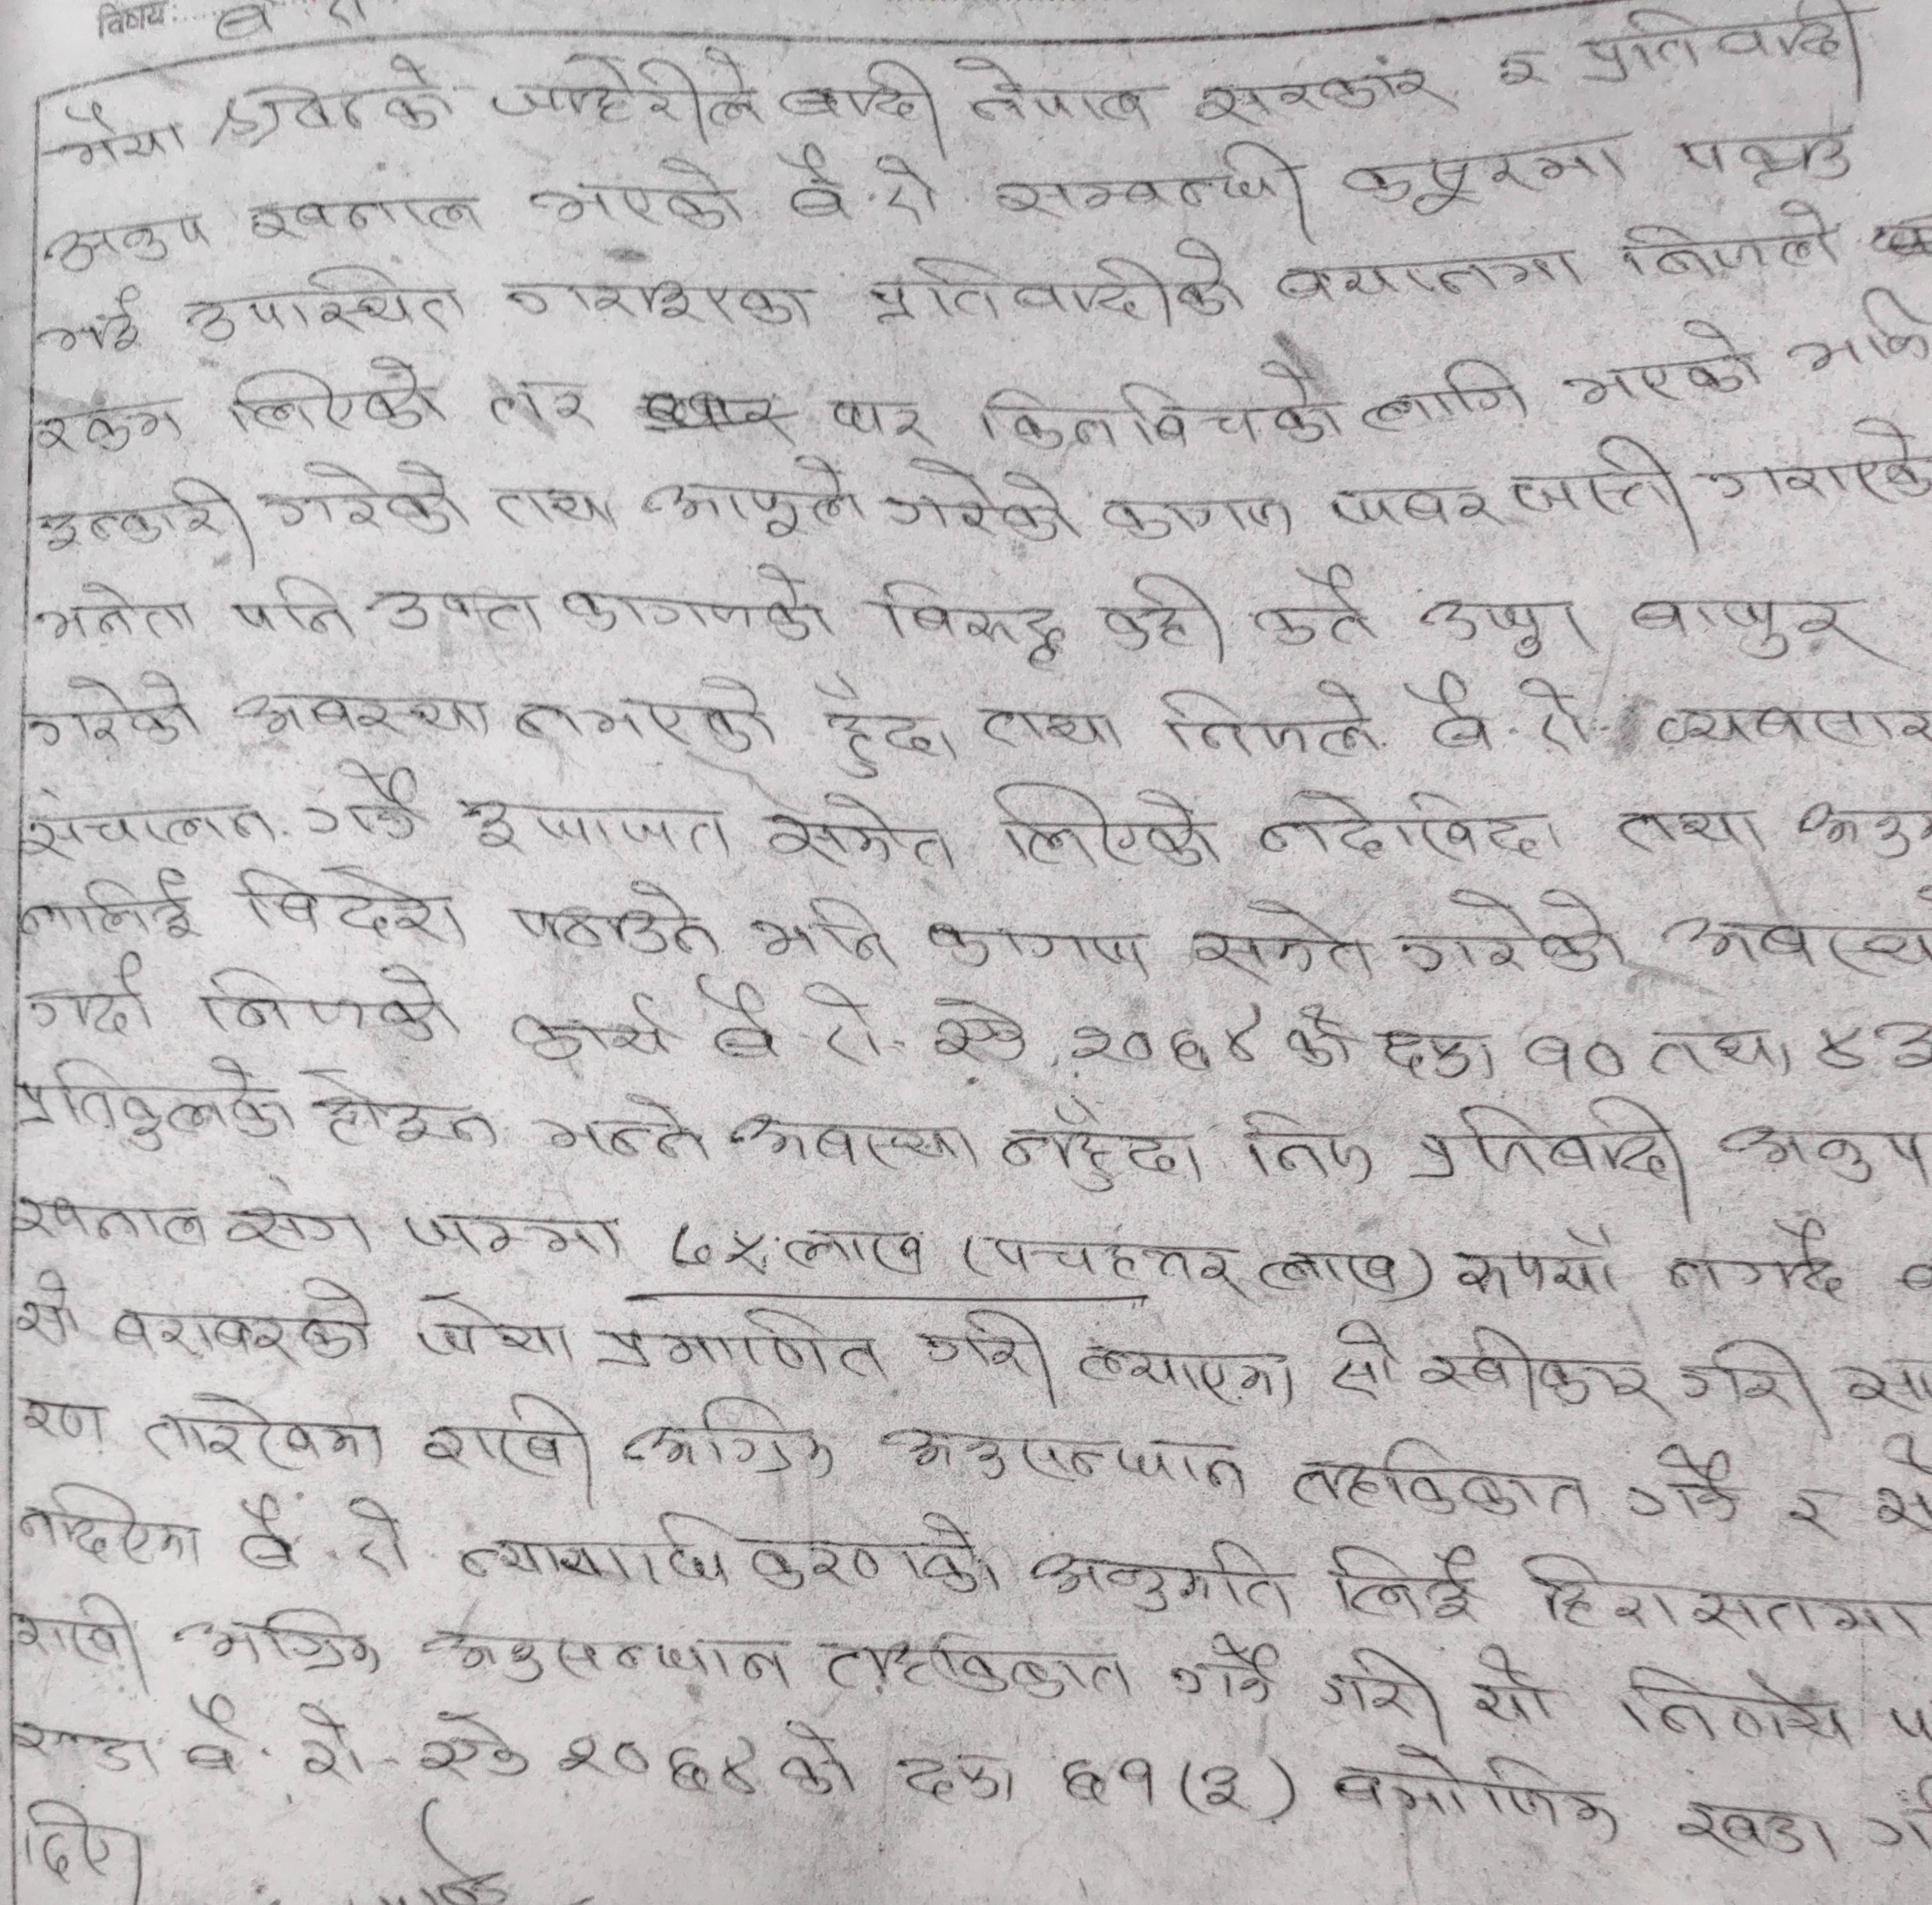text: (457, 1506, 1013, 1596), (1524, 1549, 1932, 1652), (868, 234, 1247, 331), (980, 354, 1344, 454), (1329, 1739, 1625, 1847), (1289, 1432, 1602, 1525), (881, 1420, 1250, 1493), (994, 134, 1308, 220), (493, 44, 765, 141), (558, 558, 846, 649), (19, 1054, 295, 1148), (1578, 2, 1867, 91), (1337, 133, 1636, 218), (110, 1273, 375, 1369), (1409, 1094, 1683, 1186), (820, 1629, 1140, 1706), (1395, 881, 1634, 984), (183, 260, 476, 344), (1031, 1535, 1301, 1626), (1254, 783, 1566, 860), (602, 1305, 888, 1389), (1609, 1657, 1857, 1751), (417, 1626, 797, 1687), (985, 771, 1219, 869), (638, 447, 874, 543), (201, 963, 469, 1047), (506, 672, 779, 754), (214, 51, 452, 145), (139, 1387, 398, 1472), (1418, 1322, 1662, 1410), (1709, 415, 1932, 509), (996, 1092, 1201, 1191), (1615, 195, 1854, 281), (1156, 673, 1384, 761), (237, 864, 474, 947), (877, 452, 1081, 548), (1564, 316, 1768, 412), (867, 574, 1069, 670), (1193, 52, 1456, 126), (180, 1687, 368, 1788), (621, 1390, 839, 1478), (499, 272, 816, 331), (258, 454, 473, 541), (296, 1064, 506, 1151), (17, 1478, 211, 1572), (692, 973, 889, 1066), (459, 794, 732, 860), (729, 1104, 980, 1176), (1189, 893, 1372, 991), (38, 473, 256, 555), (949, 52, 1167, 134), (528, 155, 745, 237), (225, 361, 455, 438), (230, 1488, 417, 1582), (1507, 431, 1684, 529), (21, 794, 282, 860), (417, 1392, 600, 1486), (232, 680, 492, 747), (1627, 593, 1867, 665), (513, 876, 717, 959), (764, 789, 961, 874), (1269, 251, 1587, 304), (813, 670, 957, 783), (1670, 1214, 1850, 1305), (983, 1232, 1236, 1294), (174, 1603, 385, 1678), (1650, 698, 1932, 754), (548, 1729, 767, 1800), (1076, 1340, 1296, 1411), (1060, 1005, 1269, 1080), (1360, 352, 1527, 443), (924, 925, 1158, 989), (30, 672, 206, 757), (1718, 1116, 1932, 1186), (914, 1305, 1058, 1408), (1419, 672, 1597, 754), (1444, 1223, 1623, 1301), (528, 1092, 710, 1169), (17, 869, 202, 944), (248, 188, 488, 246), (1325, 1537, 1484, 1624), (399, 1205, 635, 1263), (776, 54, 940, 134), (1674, 1793, 1838, 1874), (406, 1286, 572, 1364), (778, 145, 942, 223), (37, 577, 204, 652), (7, 1186, 206, 1249), (12, 1587, 146, 1678), (1250, 562, 1383, 652), (1240, 1103, 1376, 1190), (506, 994, 671, 1066), (23, 949, 155, 1038), (1097, 488, 1301, 546), (1623, 1443, 1752, 1533), (1419, 590, 1590, 658), (356, 583, 544, 642), (1679, 1331, 1812, 1415), (1320, 1643, 1442, 1734), (748, 891, 889, 968), (1095, 570, 1226, 652), (303, 755, 420, 846), (1683, 129, 1866, 187), (45, 213, 213, 276), (1662, 905, 1815, 972), (1160, 1629, 1285, 1710), (228, 570, 361, 644), (17, 1793, 117, 1891), (1615, 802, 1768, 864), (976, 693, 1128, 754), (889, 1745, 1025, 1811), (1646, 1026, 1798, 1085), (12, 1717, 159, 1778), (56, 99, 190, 166), (223, 1195, 373, 1254), (1327, 476, 1500, 527), (415, 1710, 537, 1781), (1252, 1244, 1402, 1301), (921, 993, 1032, 1069), (1376, 1022, 1500, 1090), (44, 284, 152, 361), (781, 1225, 926, 1280), (37, 401, 185, 455), (774, 1713, 861, 1804), (1468, 1642, 1554, 1729), (1327, 1319, 1409, 1410), (495, 480, 624, 537), (1051, 1748, 1163, 1811), (663, 1219, 779, 1279), (820, 396, 940, 452), (485, 375, 595, 436), (10, 1273, 85, 1350), (1520, 1028, 1627, 1082), (1285, 1003, 1353, 1076), (14, 1396, 106, 1448), (1198, 1757, 1250, 1814), (1494, 47, 1545, 92)
